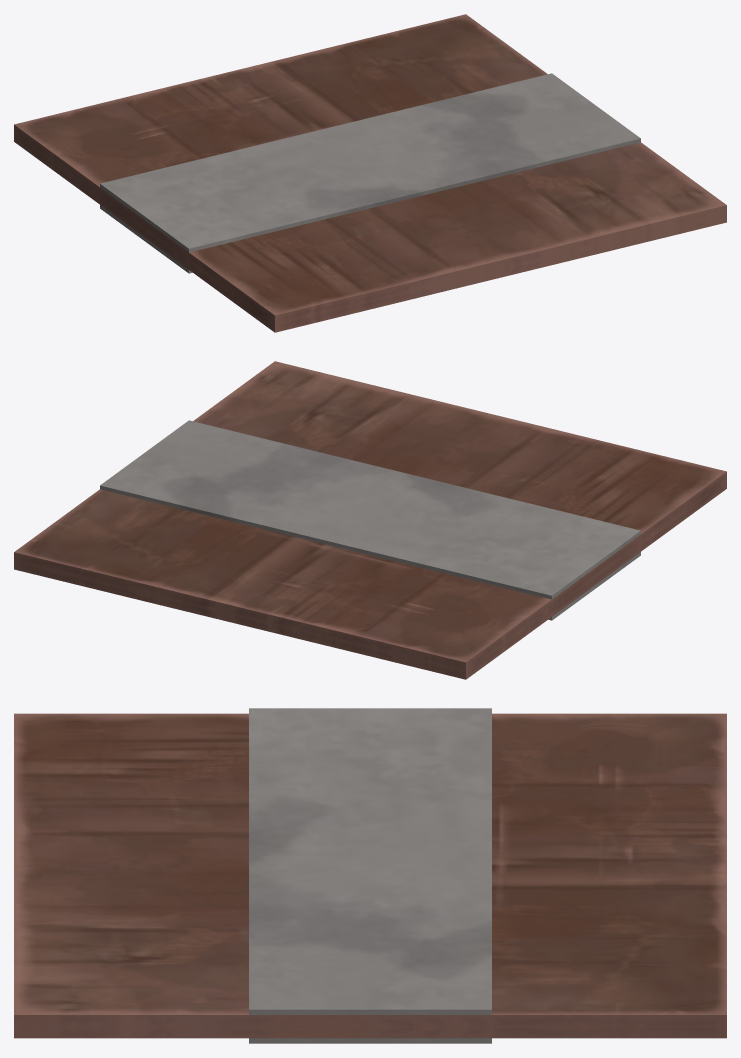
The model's file is Ground.fbx.
The picture shows the model from 3 angles, top to bottom: view 1: azimuth 30°, elevation 25°; view 2: azimuth 150°, elevation 25°; view 3: azimuth 270°, elevation 25°; orthographic projection. The views are drawn at different scales.
Parts seen in each view (by area): view 1: Ground_02, Ground_01; view 2: Ground_02, Ground_01; view 3: Ground_02, Ground_01.
Boxes of the visible parts, <box> form: Ground_02: <box>14,14,726,332</box>; Ground_01: <box>100,73,640,273</box>; Ground_02: <box>14,361,726,679</box>; Ground_01: <box>100,420,640,620</box>; Ground_02: <box>14,713,726,1038</box>; Ground_01: <box>249,708,491,1043</box>.
Bounding box in the file's own units: 4 × 0.2103 × 4.
